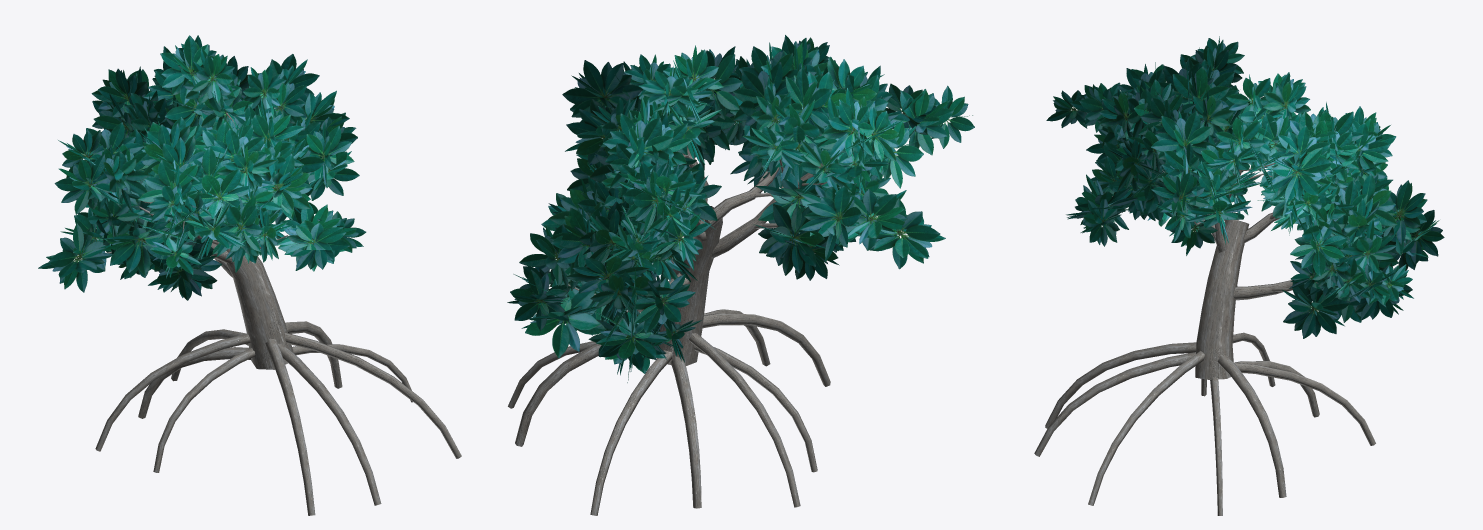
File: nature-blue-mangrove_v2.glb
The picture shows the model from 3 angles, left to right: view 1: azimuth 30°, elevation 25°; view 2: azimuth 150°, elevation 25°; view 3: azimuth 270°, elevation 25°; orthographic projection. The views are drawn at different scales.
Parts seen in each view (by area): view 1: nature-blue-mangrove; view 2: nature-blue-mangrove; view 3: nature-blue-mangrove.
Boxes of the visible parts, x1=… form: nature-blue-mangrove: x1=38, y1=35, x2=461, y2=515; nature-blue-mangrove: x1=507, y1=35, x2=974, y2=515; nature-blue-mangrove: x1=1034, y1=36, x2=1444, y2=515.
Size of the model in its own units: 6.99 by 6.84 by 7.19.
2 materials, 2 textured.
